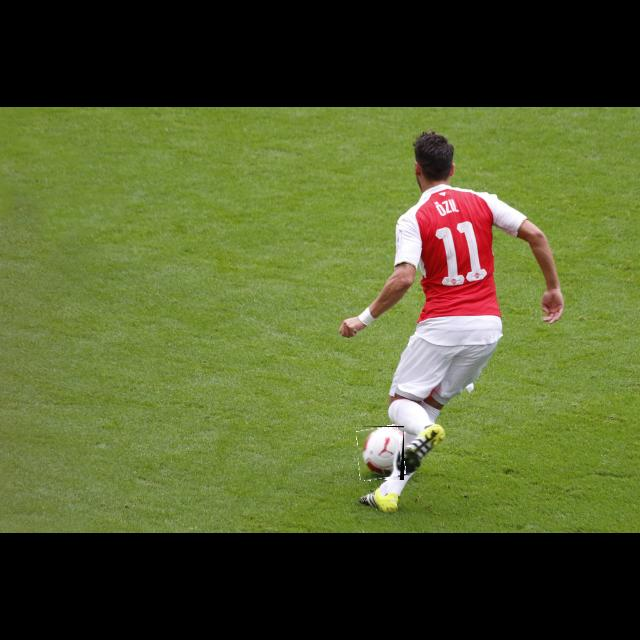Football: (358, 426, 404, 480)
